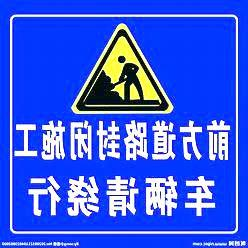sign: (7, 13, 240, 238)
